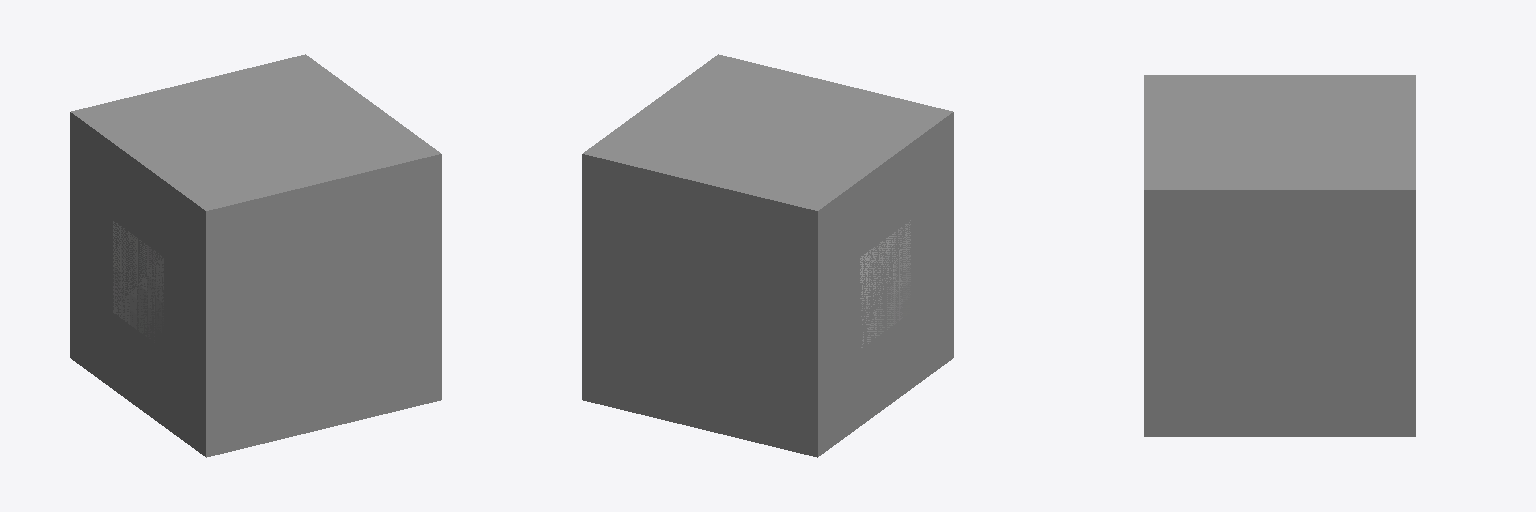
3 renders of one model, left to right at view 1: azimuth 30°, elevation 25°; view 2: azimuth 150°, elevation 25°; view 3: azimuth 270°, elevation 25°, orthographic.
Parts seen in each view (by area): view 1: Minecraft_Block_Cube, Minecraft_2_Edge_Connectivity_Cube.002, main; view 2: Minecraft_Block_Cube, Minecraft_2_Edge_Connectivity_Cube.002, main; view 3: Minecraft_Block_Cube, Minecraft_2_Edge_Connectivity_Cube.002.
Boxes of the visible parts, <box> form: Minecraft_Block_Cube: <box>71,54,441,457</box>; Minecraft_2_Edge_Connectivity_Cube.002: <box>70,112,255,456</box>; main: <box>113,221,163,347</box>; Minecraft_Block_Cube: <box>582,54,952,457</box>; Minecraft_2_Edge_Connectivity_Cube.002: <box>768,112,953,456</box>; main: <box>860,220,910,347</box>; Minecraft_Block_Cube: <box>1144,75,1415,436</box>; Minecraft_2_Edge_Connectivity_Cube.002: <box>1146,75,1414,132</box>.
Size of the model in its own units: 1 by 1 by 1.
2 materials, 1 textured.